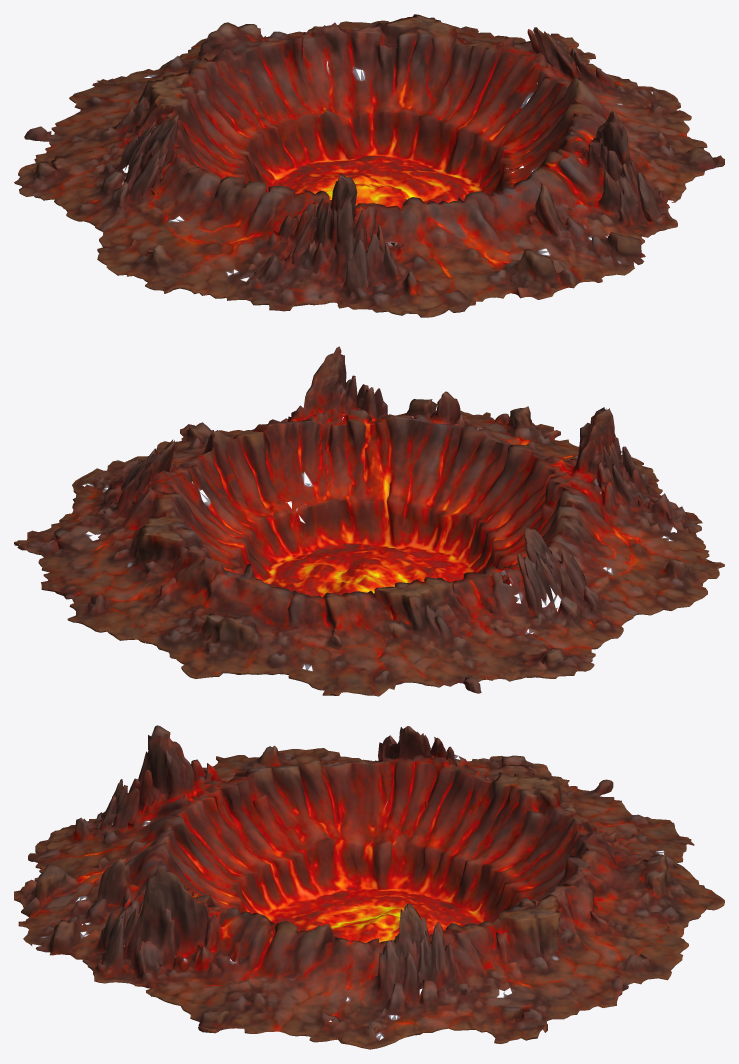
The model's file is lava_crater.glb.
The picture shows the model from 3 angles, top to bottom: view 1: azimuth 30°, elevation 25°; view 2: azimuth 150°, elevation 25°; view 3: azimuth 270°, elevation 25°; orthographic projection. The views are drawn at different scales.
Parts seen in each view (by area): view 1: lava_crater; view 2: lava_crater; view 3: lava_crater.
Part boxes in pixels (x1=…): lava_crater: x1=14, y1=14, x2=724, y2=317; lava_crater: x1=14, y1=346, x2=724, y2=696; lava_crater: x1=14, y1=725, x2=724, y2=1049.
Bounding box in the file's own units: 0.9419 × 0.2114 × 0.9482.
Materials: 1 (1 with a texture image).
